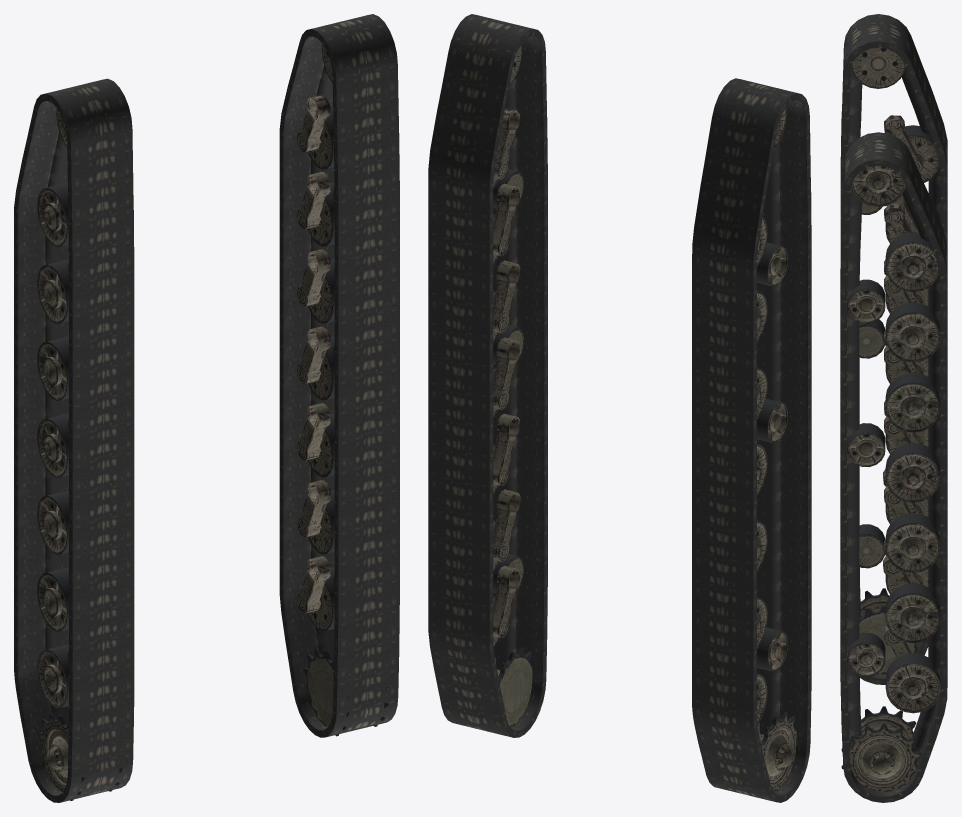
The model's file is Chassis.glb.
The picture shows the model from 3 angles, left to right: view 1: azimuth 30°, elevation 25°; view 2: azimuth 150°, elevation 25°; view 3: azimuth 270°, elevation 25°; orthographic projection. The views are drawn at different scales.
Visible parts, largest first — view 1: set_1_group_0, set_0_group_0, set_3_group_0, set_2_group_0; view 2: set_1_group_0, set_0_group_0, set_3_group_0, set_2_group_0; view 3: set_3_group_0, set_0_group_0, set_2_group_0, set_1_group_0.
Part boxes in pixels (x1,y1,x2,y2): set_1_group_0: [14, 78, 134, 802]; set_0_group_0: [279, 14, 399, 737]; set_3_group_0: [297, 44, 388, 736]; set_2_group_0: [37, 108, 122, 800]; set_1_group_0: [692, 78, 811, 802]; set_0_group_0: [428, 14, 547, 737]; set_3_group_0: [493, 44, 532, 726]; set_2_group_0: [757, 108, 796, 791]; set_3_group_0: [841, 166, 940, 791]; set_0_group_0: [840, 132, 947, 802]; set_2_group_0: [851, 47, 939, 674]; set_1_group_0: [840, 14, 947, 684].
Size of the model in its own units: 3.5 by 7.13 by 1.08.
4 materials, 4 textured.
